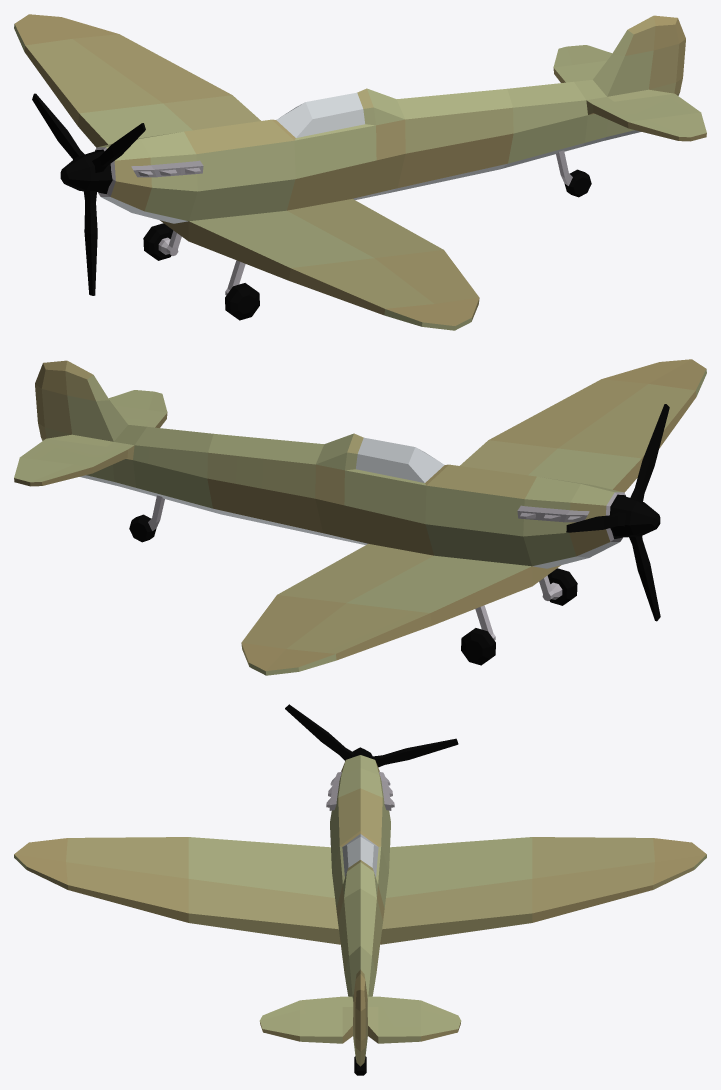
The picture shows the model from 3 angles, top to bottom: view 1: azimuth 30°, elevation 25°; view 2: azimuth 150°, elevation 25°; view 3: azimuth 270°, elevation 25°; orthographic projection. The views are drawn at different scales.
Parts seen in each view (by area): view 1: FighterPlaneBody, FighterPlanePropeller, FighterPlaneFrontWheels, FighterPlaneBackWheel; view 2: FighterPlaneBody, FighterPlanePropeller, FighterPlaneFrontWheels, FighterPlaneBackWheel; view 3: FighterPlaneBody, FighterPlanePropeller.
Boxes of the visible parts, x1,y1,x2,y2 form: FighterPlaneBody: (14, 14, 706, 330); FighterPlanePropeller: (32, 93, 145, 295); FighterPlaneFrontWheels: (143, 223, 259, 320); FighterPlaneBackWheel: (556, 150, 591, 197); FighterPlaneBody: (14, 359, 706, 675); FighterPlanePropeller: (566, 404, 669, 621); FighterPlaneFrontWheels: (461, 568, 577, 665); FighterPlaneBackWheel: (129, 495, 164, 542); FighterPlaneBody: (14, 755, 706, 1066); FighterPlanePropeller: (285, 704, 458, 767).
Bounding box in the file's own units: 1.87 × 0.6337 × 2.21.
